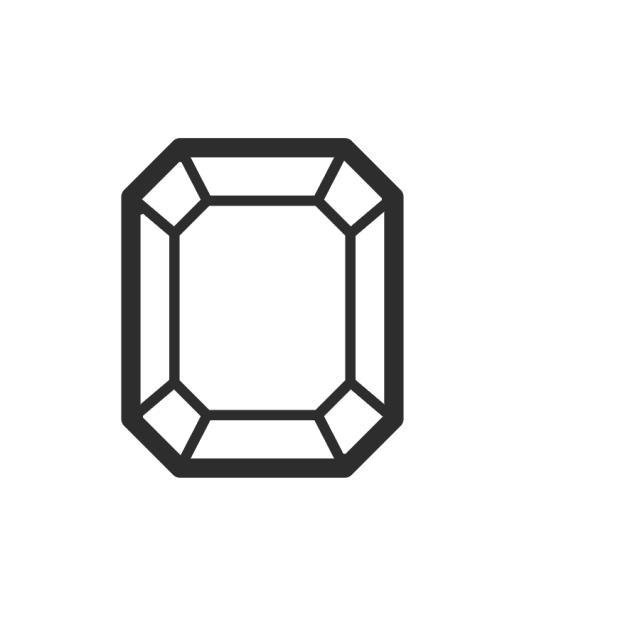emerald: (115, 134, 411, 488)
